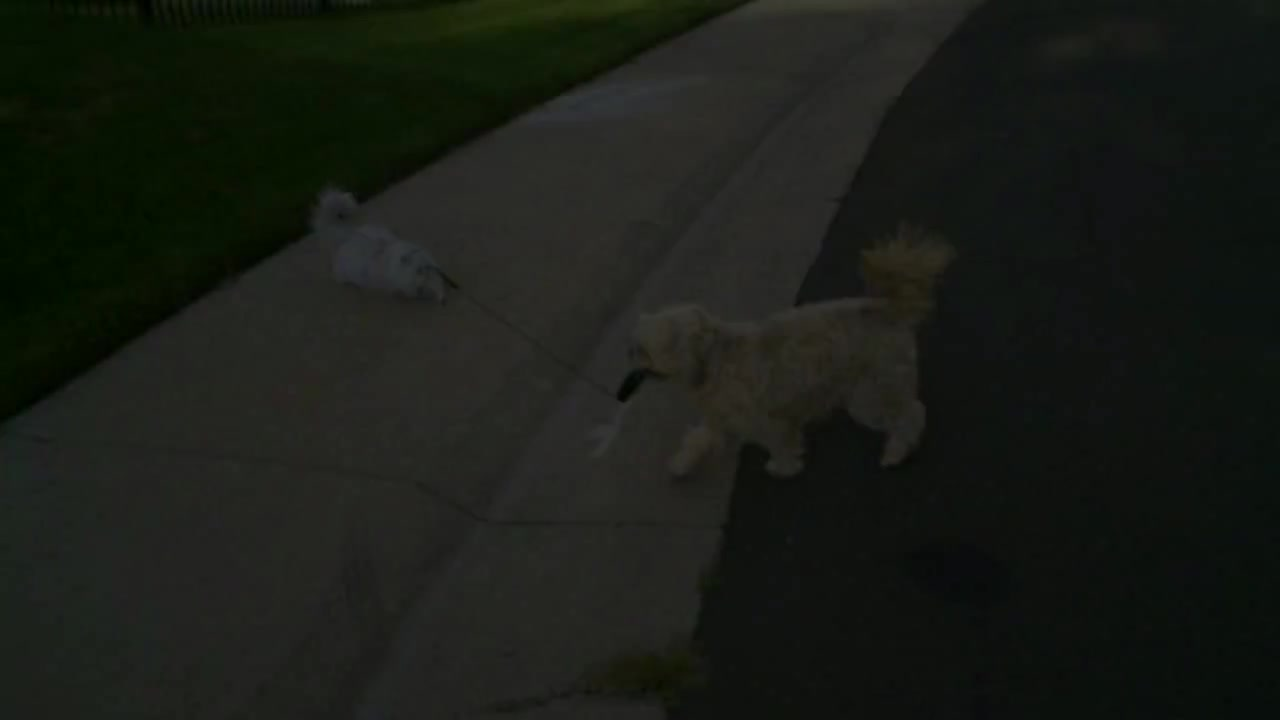dog: (617, 224, 950, 481)
